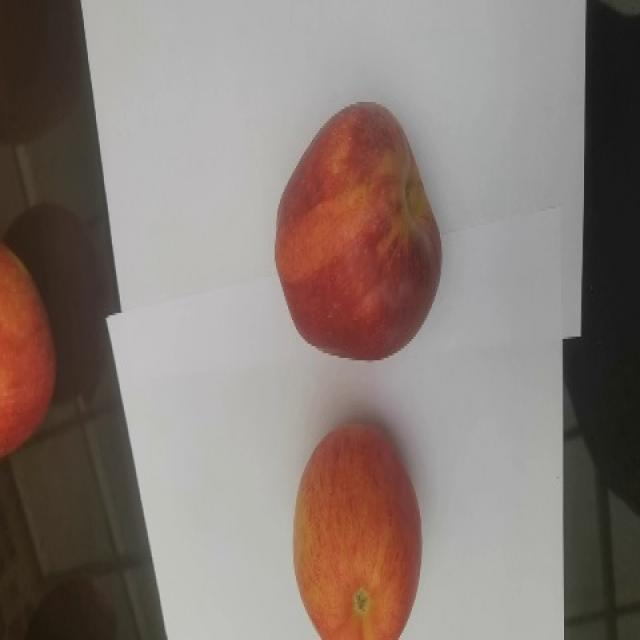Apple: (273, 100, 442, 360), (292, 420, 422, 639), (0, 240, 57, 459)
